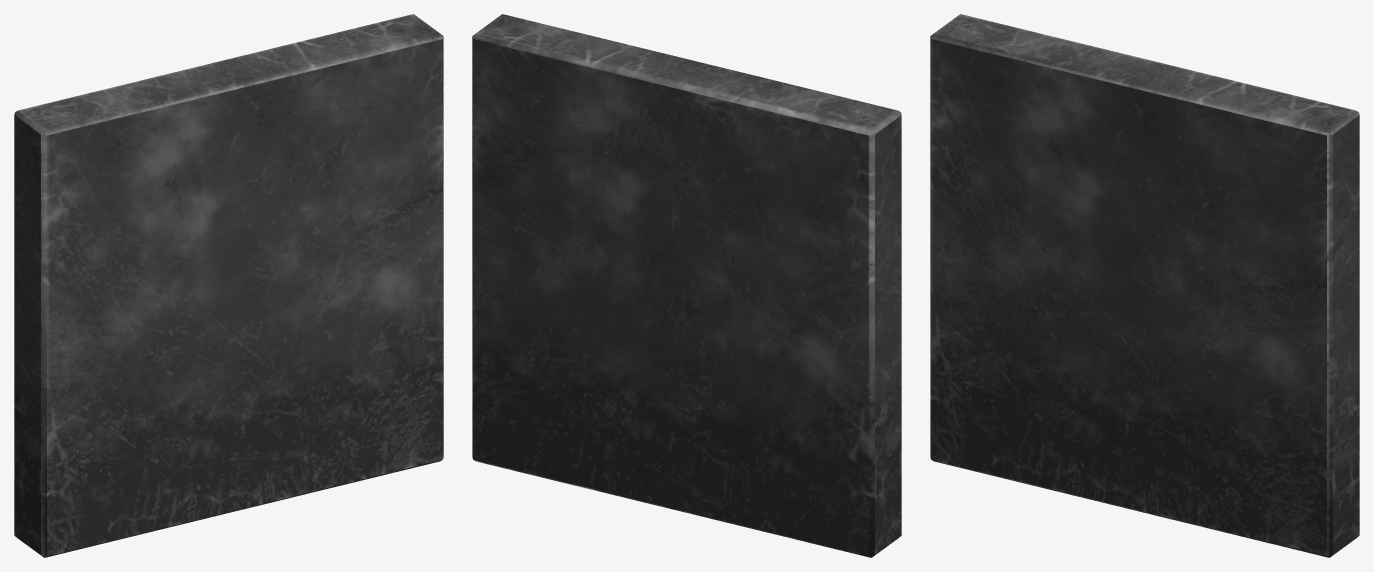
File: Parede do cemiterio.fbx
The picture shows the model from 3 angles, left to right: view 1: azimuth 30°, elevation 25°; view 2: azimuth 150°, elevation 25°; view 3: azimuth 330°, elevation 25°; orthographic projection.
Parts seen in each view (by area): view 1: Cube.001; view 2: Cube.001; view 3: Cube.001.
Part boxes in pixels (<box>): Cube.001: <box>14,14,443,557</box>; Cube.001: <box>472,14,901,557</box>; Cube.001: <box>930,14,1359,557</box>.
Bounding box in the file's own units: 213 × 216 × 29.22.
